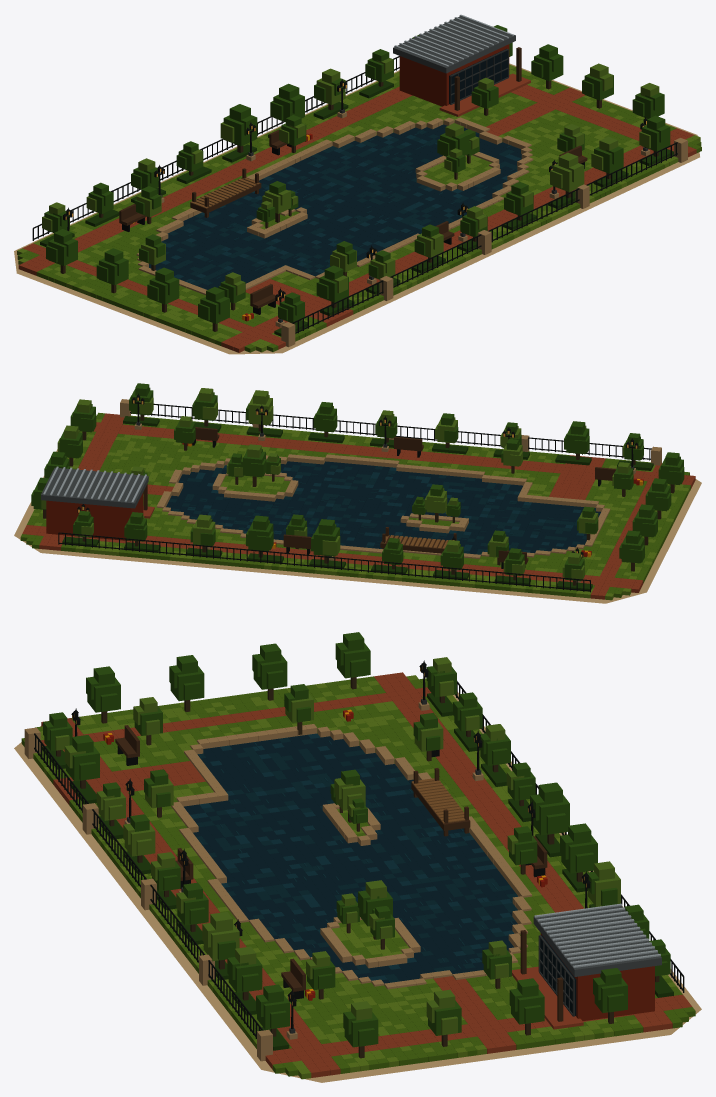
File: SM_Mapa_043.fbx
The picture shows the model from 3 angles, top to bottom: view 1: azimuth 30°, elevation 25°; view 2: azimuth 150°, elevation 25°; view 3: azimuth 270°, elevation 25°; orthographic projection. The views are drawn at different scales.
Visible parts, largest first — view 1: SM_Mapa_043; view 2: SM_Mapa_043; view 3: SM_Mapa_043.
Boxes of the visible parts, <box> form: SM_Mapa_043: <box>14,14,701,354</box>; SM_Mapa_043: <box>14,383,701,603</box>; SM_Mapa_043: <box>14,632,701,1082</box>.
Size of the model in its own units: 80 by 56.98 by 5.96.
